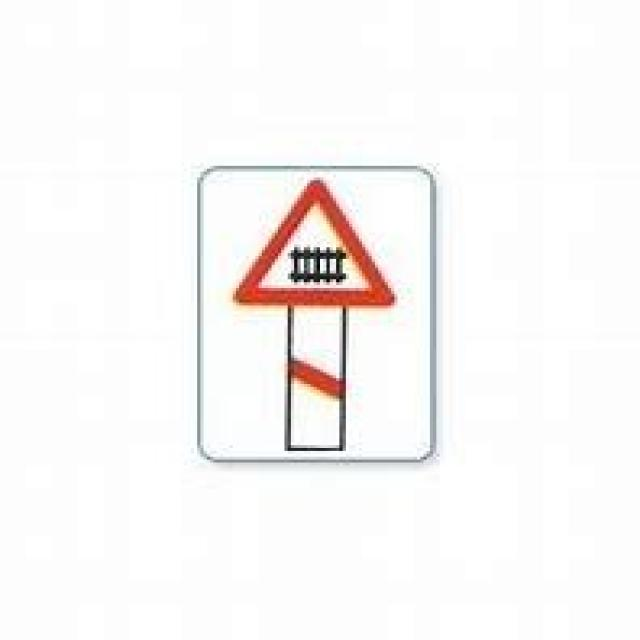GUARDED_LEVEL_CROSSING: (229, 180, 400, 454)
